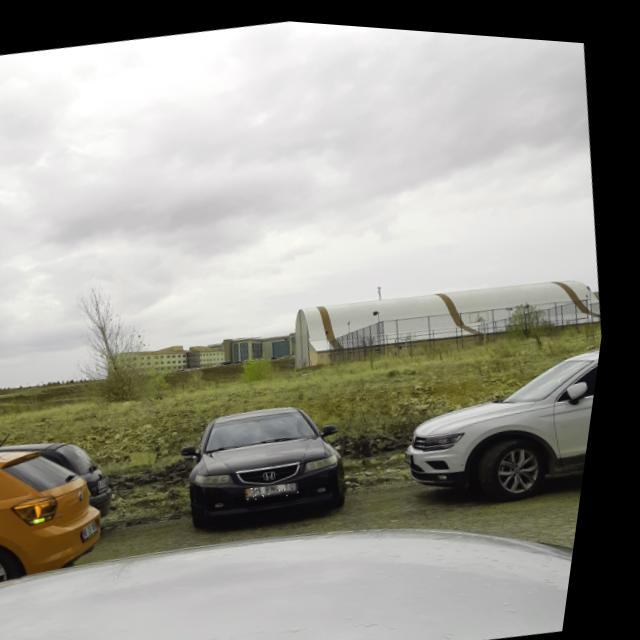license_plate: (257, 474, 313, 500)
